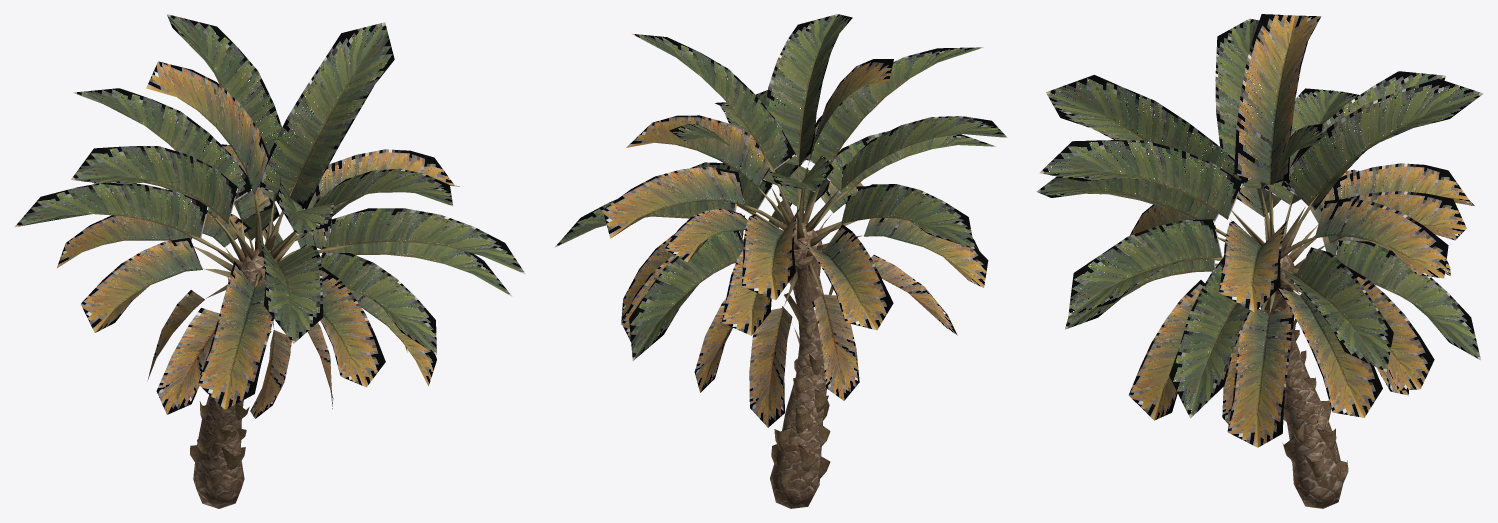
Rendered from arid-palm-short-b-close.glb.
3 views of the same model, side by side, from view 1: azimuth 30°, elevation 25°; view 2: azimuth 150°, elevation 25°; view 3: azimuth 270°, elevation 25° (orthographic). The views are drawn at different scales.
Parts seen in each view (by area): view 1: palm_tree_short_b_LOD0; view 2: palm_tree_short_b_LOD0; view 3: palm_tree_short_b_LOD0.
Boxes of the visible parts, box(x1,y1,x2,y2) form: palm_tree_short_b_LOD0: box(14, 14, 525, 508); palm_tree_short_b_LOD0: box(555, 14, 1007, 508); palm_tree_short_b_LOD0: box(1036, 14, 1483, 508).
Bounding box in the file's own units: 6.53 × 6.76 × 5.93.
1 material, 1 textured.
